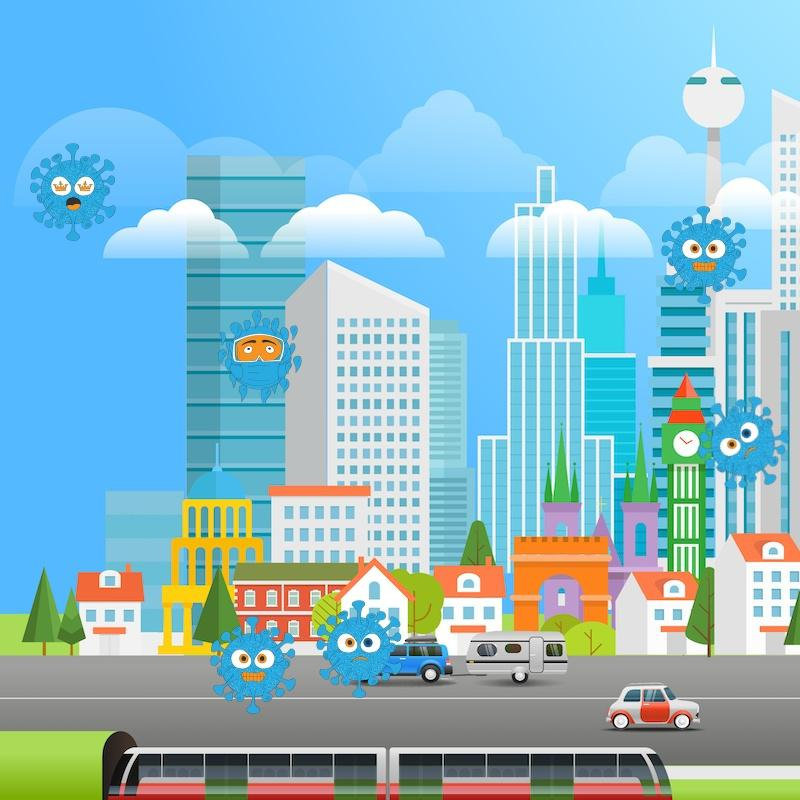corona1: (199, 615, 297, 723), (662, 205, 752, 307)
corona2: (691, 395, 786, 490), (316, 605, 402, 707)
corona4: (27, 138, 116, 242)
doctor: (216, 303, 301, 404)
